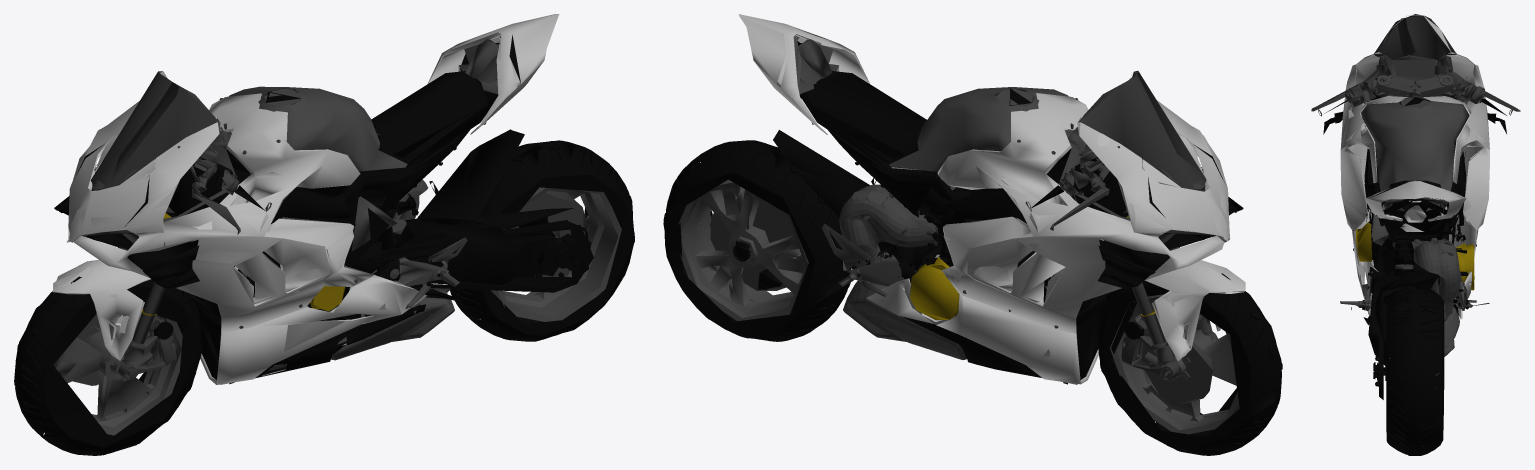
File: ducati.glb
3 views of the same model, side by side, from view 1: azimuth 30°, elevation 25°; view 2: azimuth 150°, elevation 25°; view 3: azimuth 270°, elevation 25° (orthographic). The views are drawn at different scales.
Visible parts, largest first — view 1: Object_13, Object_10, Object_5, Object_21, Object_4, Object_25, Object_22, Object_23, Object_3, Object_12, Object_9, Object_18 (+6 smaller); view 2: Object_13, Object_21, Object_4, Object_5, Object_10, Object_22, Object_23, Object_25, Object_3, Object_19, Object_17, Object_12 (+6 smaller); view 3: Object_13, Object_4, Object_23, Object_10, Object_16, Object_22, Object_25, Object_19, Object_18, Object_26, Object_20, Object_9 (+1 smaller).
Part boxes in pixels (bbox=[...]): Object_13: bbox=[52, 14, 559, 384]; Object_10: bbox=[86, 36, 582, 379]; Object_5: bbox=[14, 276, 202, 455]; Object_21: bbox=[53, 187, 621, 435]; Object_4: bbox=[448, 140, 634, 341]; Object_25: bbox=[123, 90, 573, 339]; Object_22: bbox=[82, 43, 499, 343]; Object_23: bbox=[229, 86, 407, 171]; Object_3: bbox=[371, 71, 487, 163]; Object_12: bbox=[54, 196, 362, 384]; Object_9: bbox=[354, 220, 593, 292]; Object_18: bbox=[205, 127, 467, 314]; Object_13: bbox=[738, 14, 1245, 384]; Object_21: bbox=[678, 179, 1239, 434]; Object_4: bbox=[663, 140, 851, 341]; Object_5: bbox=[1096, 273, 1282, 455]; Object_10: bbox=[732, 41, 1211, 379]; Object_22: bbox=[796, 36, 1215, 344]; Object_23: bbox=[889, 87, 1068, 171]; Object_25: bbox=[773, 84, 1174, 339]; Object_3: bbox=[810, 71, 926, 163]; Object_19: bbox=[839, 184, 1057, 302]; Object_17: bbox=[710, 198, 1212, 404]; Object_12: bbox=[901, 197, 1243, 384]; Object_13: bbox=[1340, 52, 1489, 319]; Object_4: bbox=[1386, 285, 1444, 455]; Object_23: bbox=[1361, 97, 1469, 203]; Object_10: bbox=[1362, 91, 1468, 386]; Object_16: bbox=[1311, 55, 1520, 111]; Object_22: bbox=[1370, 14, 1456, 213]; Object_25: bbox=[1366, 96, 1463, 341]; Object_19: bbox=[1392, 237, 1460, 315]; Object_18: bbox=[1318, 75, 1513, 310]; Object_26: bbox=[1356, 222, 1474, 290]; Object_20: bbox=[1444, 302, 1459, 356]; Object_9: bbox=[1379, 252, 1383, 399].
Size of the model in its own units: 535 by 302 by 196.
